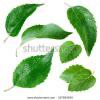Apple leaf: (12, 46, 56, 92), (64, 5, 99, 57), (4, 0, 35, 39), (58, 43, 82, 63)
